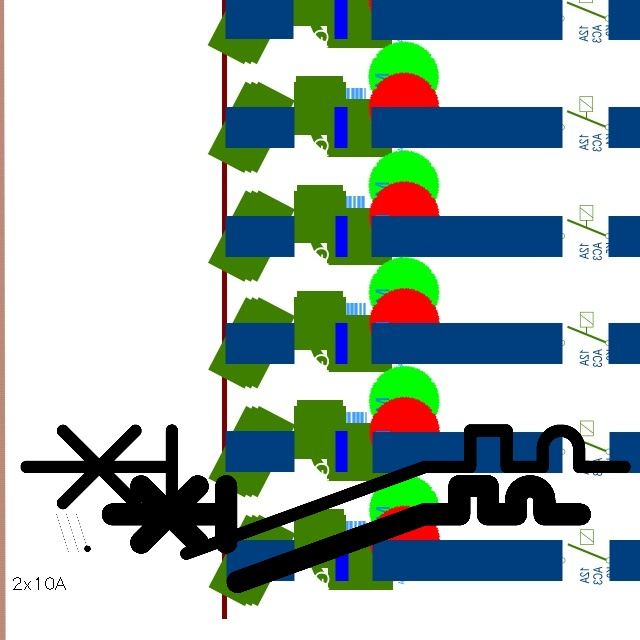interruptor_termomagnetico: (11, 415, 640, 569), (100, 474, 592, 594)
